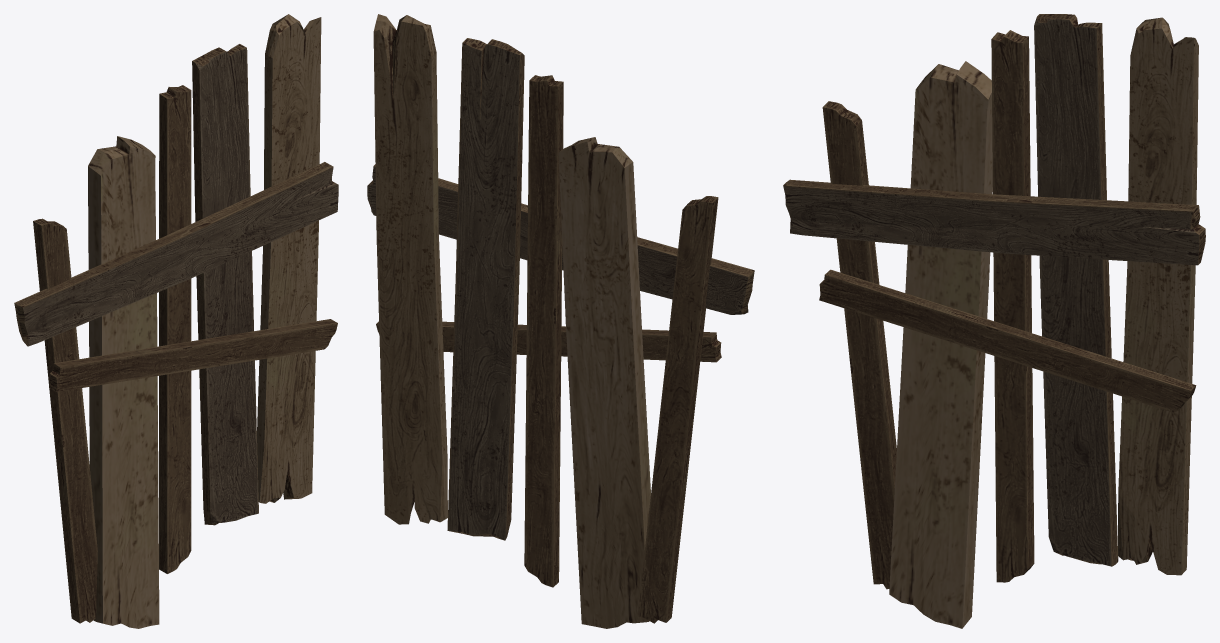
File: SM_WoodenFence_1.fbx
3 views of the same model, side by side, from view 1: azimuth 30°, elevation 25°; view 2: azimuth 150°, elevation 25°; view 3: azimuth 330°, elevation 25° (orthographic). The views are drawn at different scales.
Parts seen in each view (by area): view 1: SM_WoodenFence_1; view 2: SM_WoodenFence_1; view 3: SM_WoodenFence_1.
Part boxes in pixels (x1,y1,x2,y2): SM_WoodenFence_1: (14, 14, 338, 628); SM_WoodenFence_1: (367, 14, 754, 628); SM_WoodenFence_1: (783, 14, 1205, 628).
Bounding box in the file's own units: 102 × 159 × 19.71.
